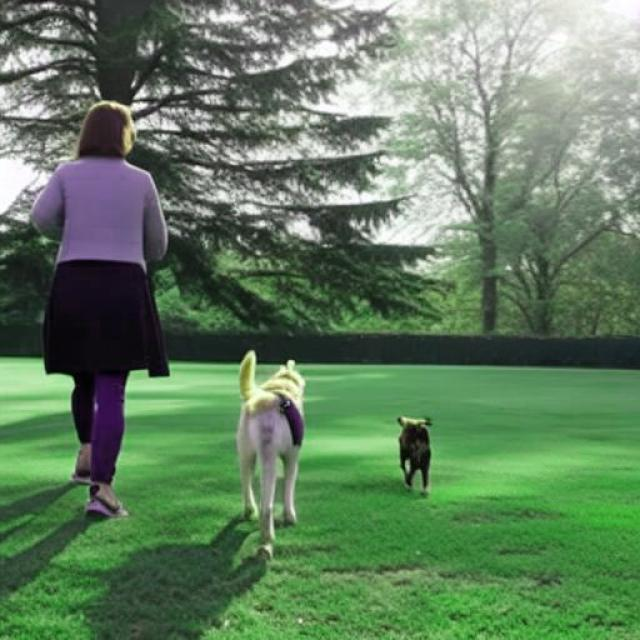Unleashed_Dog: (104, 247, 433, 496), (103, 247, 307, 564)
